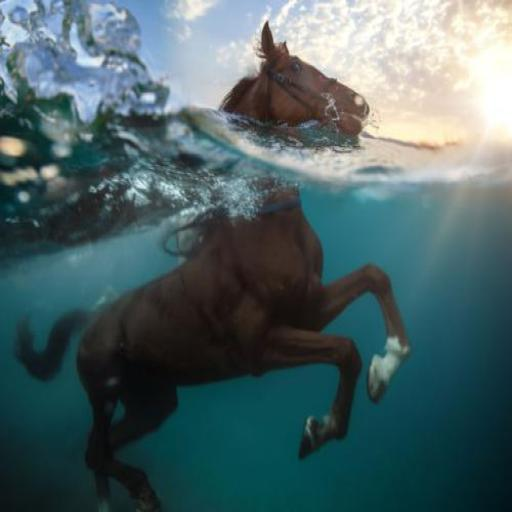swimming: (10, 173, 413, 511)
